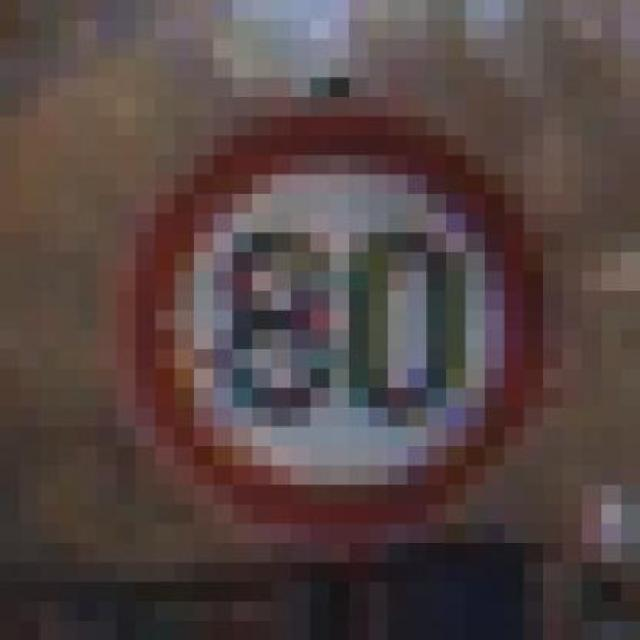forb_speed_over_80: (134, 116, 541, 522)
